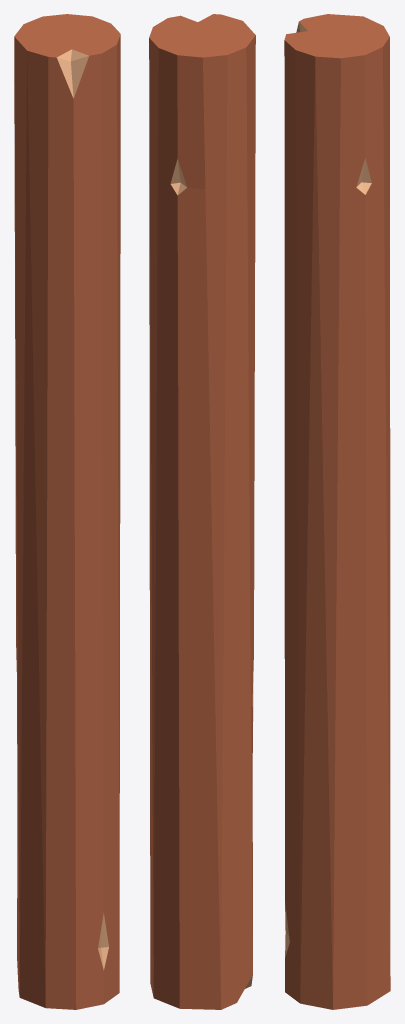
Rendered from WoodPost2.fbx.
3 renders of one model, left to right at view 1: azimuth 30°, elevation 25°; view 2: azimuth 210°, elevation 25°; view 3: azimuth 270°, elevation 25°, orthographic.
Visible parts, largest first — view 1: WoodPost2; view 2: WoodPost2; view 3: WoodPost2.
Part boxes in pixels (box(x1,y1,x2,y2)): WoodPost2: box(14, 14, 120, 1009); WoodPost2: box(149, 14, 255, 1009); WoodPost2: box(284, 14, 390, 1009).
Bounding box in the file's own units: 51.03 × 500 × 50.5.
